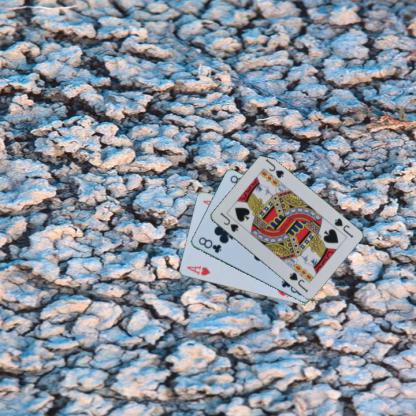8c: (196, 235, 222, 254)
Ah: (184, 263, 211, 277)
Js: (217, 210, 240, 233), (332, 216, 354, 239)
